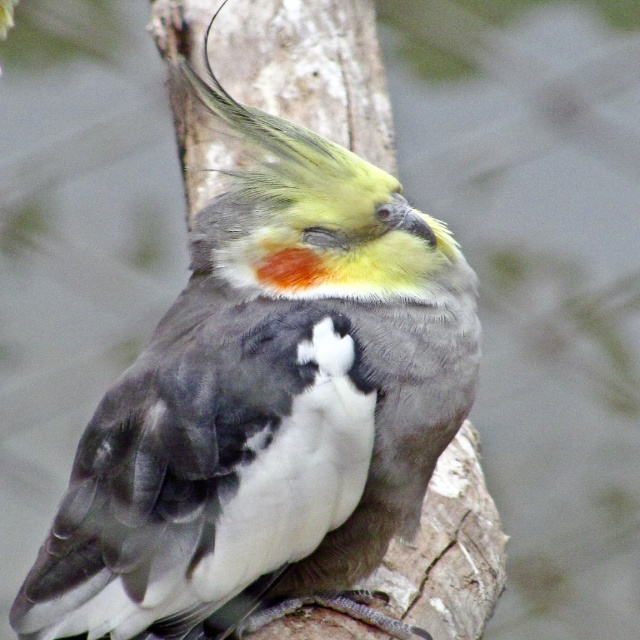Parrot: (6, 0, 486, 640)
